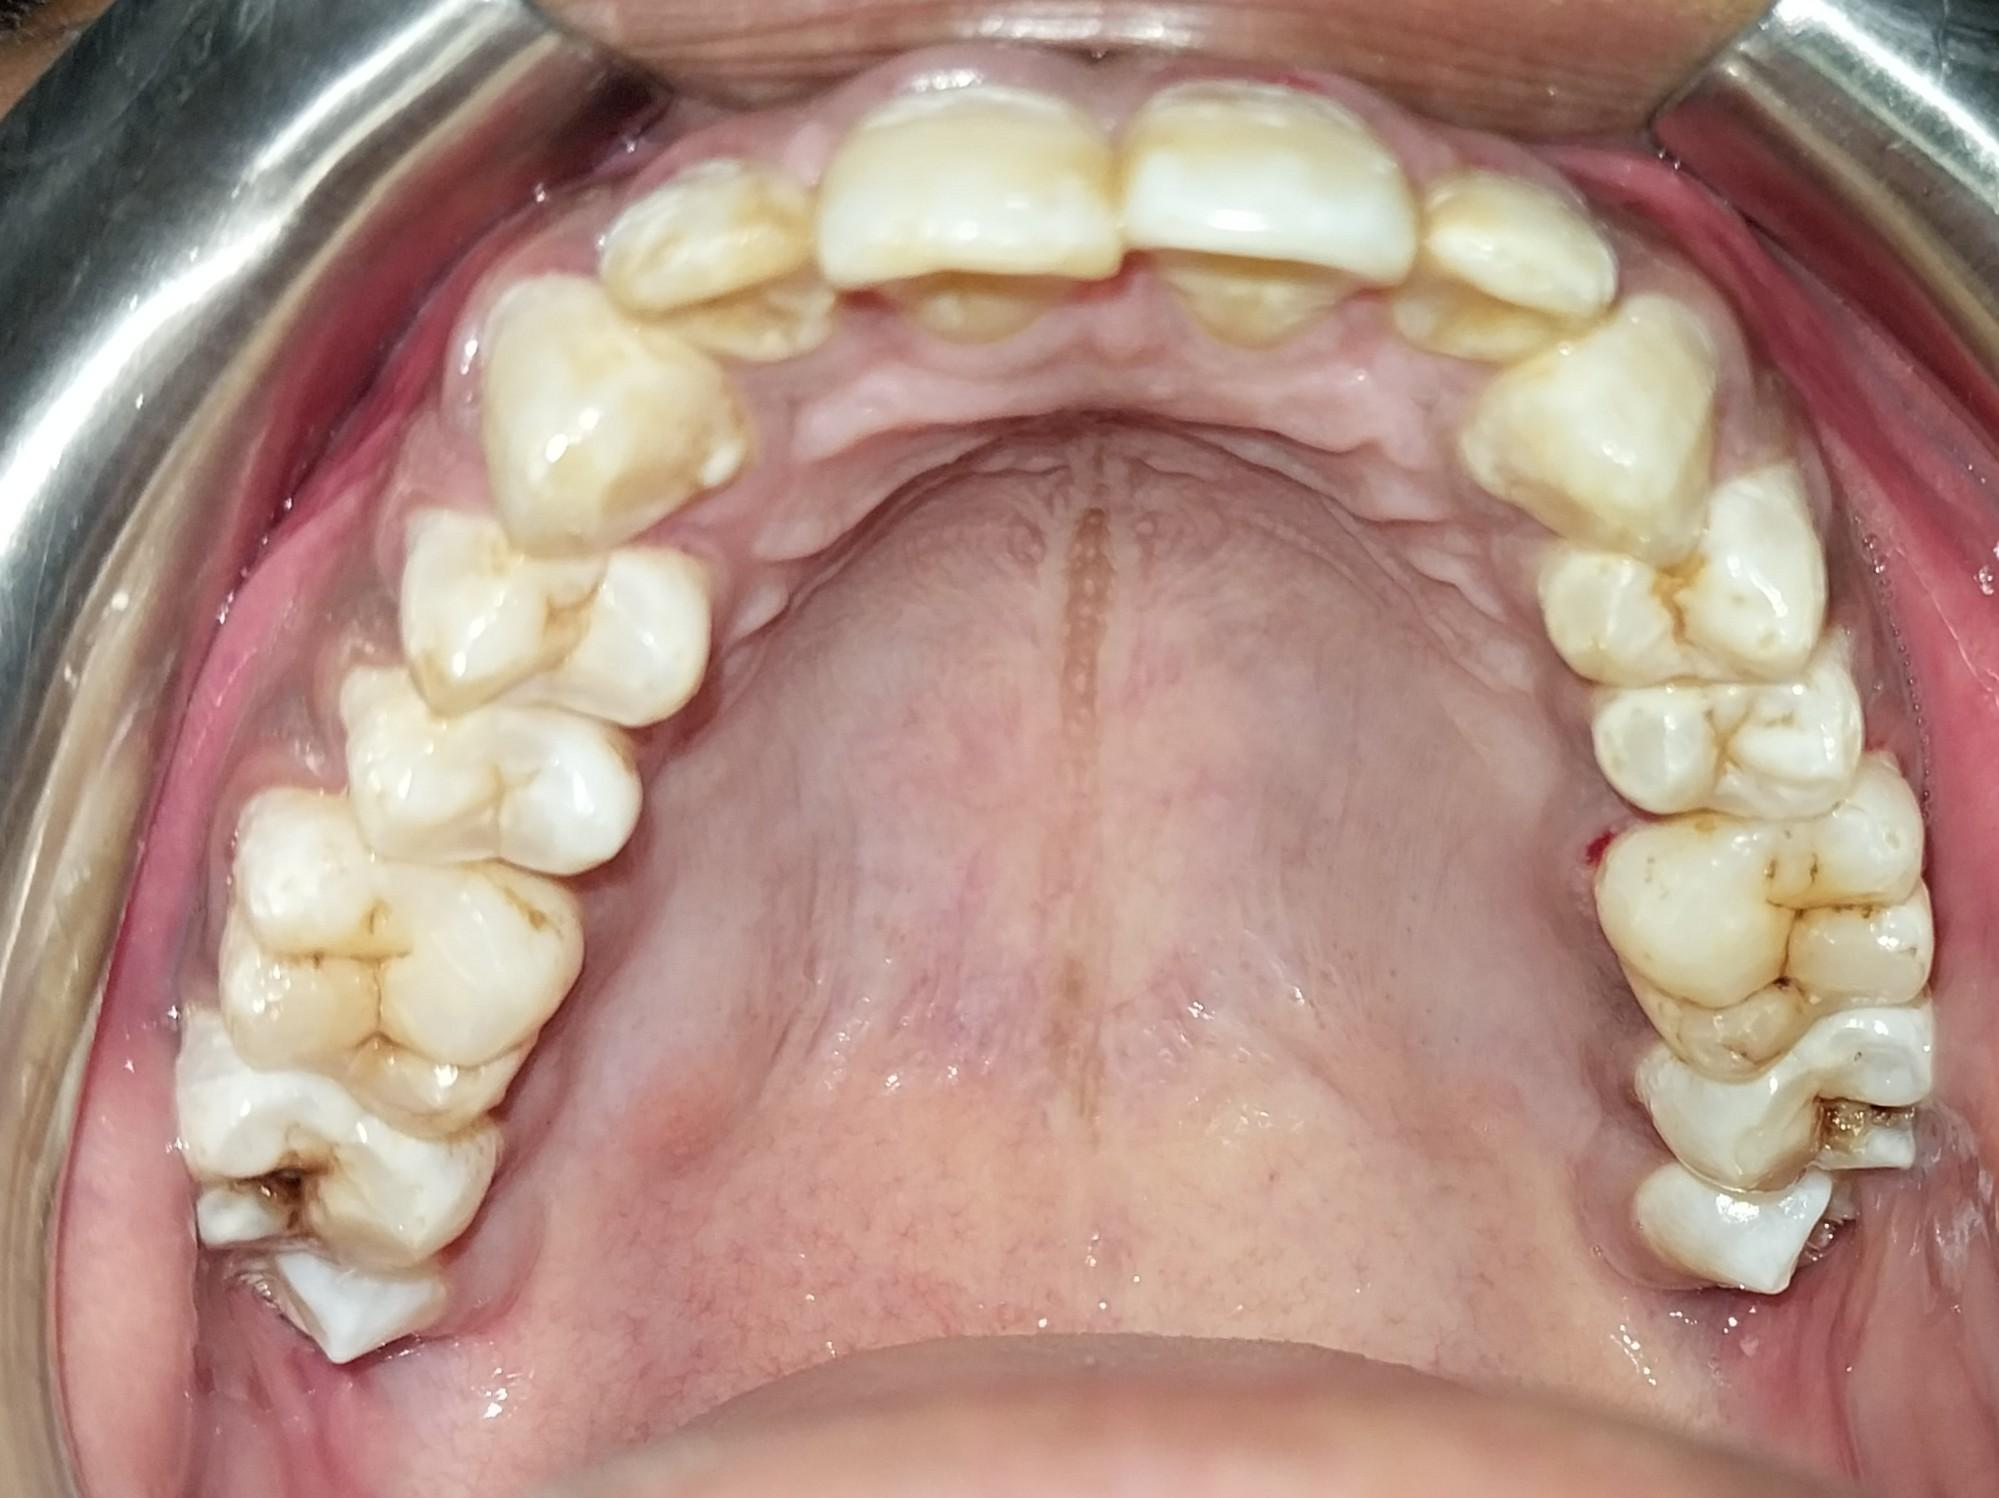D: (207, 790, 573, 1120), (1591, 807, 1935, 1072), (181, 1007, 507, 1277), (1630, 1036, 1943, 1182)
